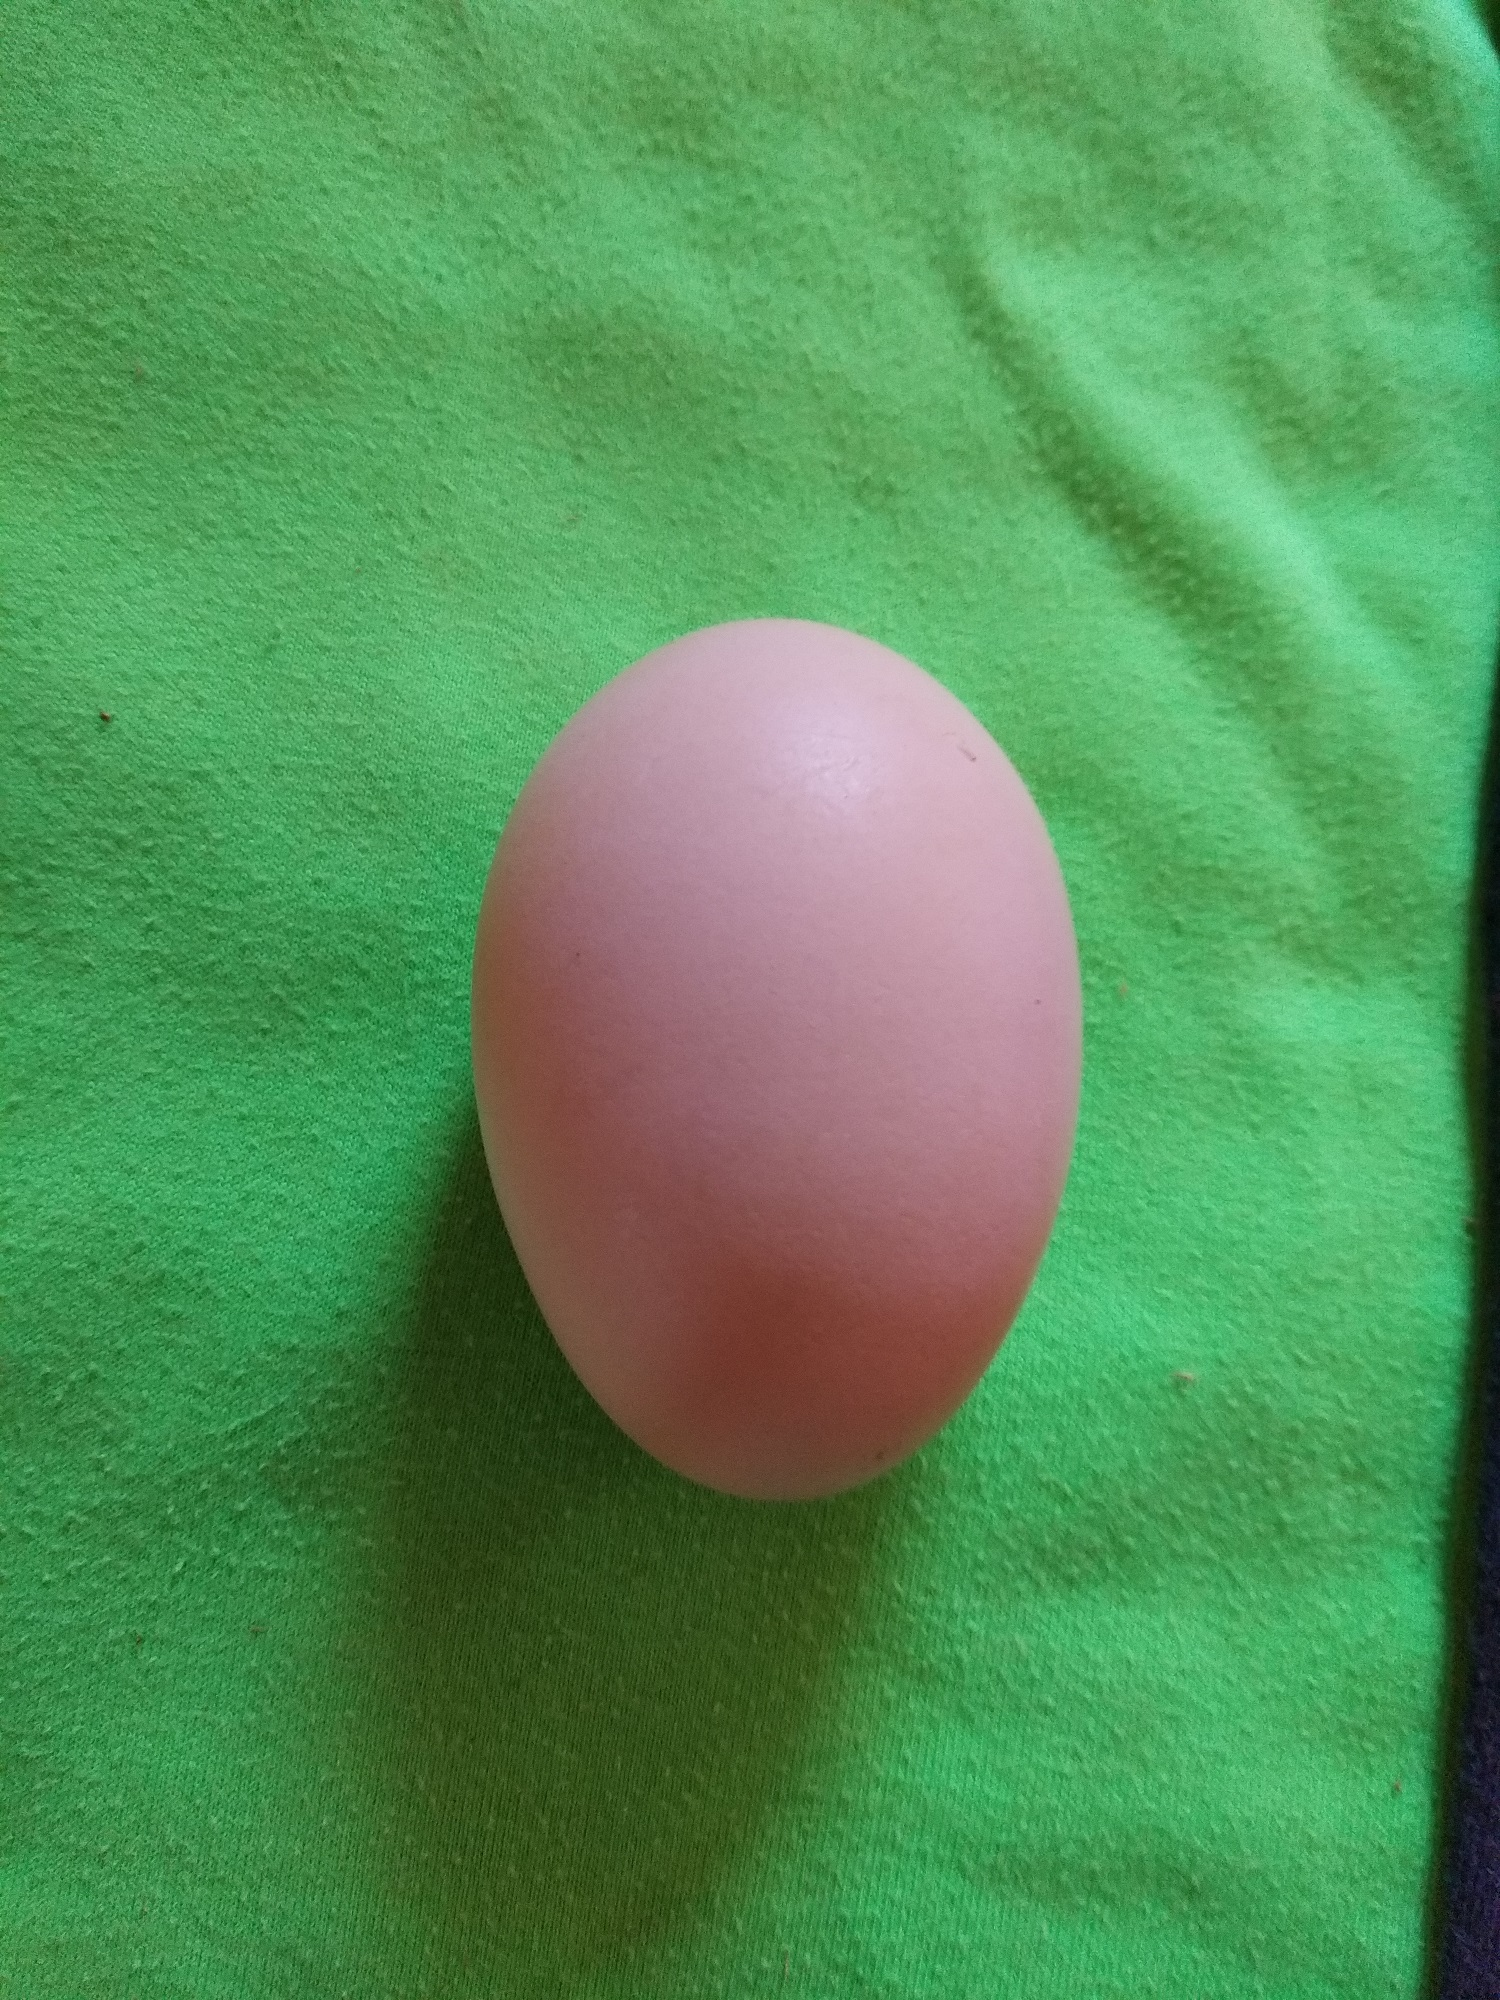Male: (465, 609, 1090, 1509)
